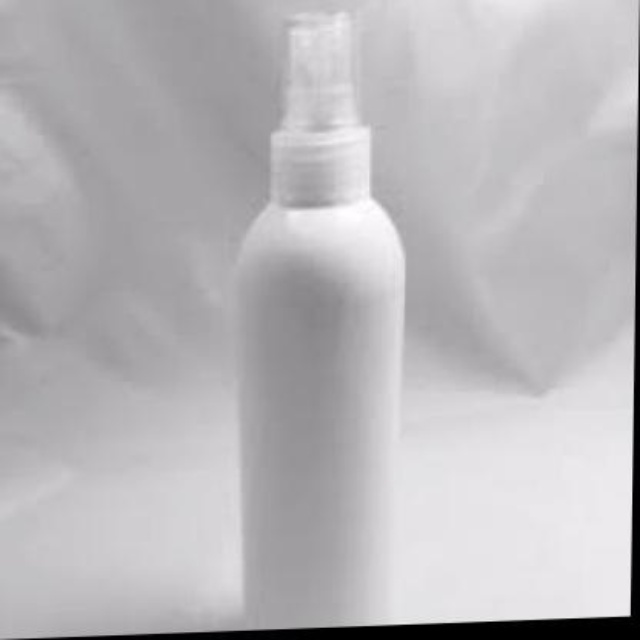trash: (237, 12, 403, 626)
